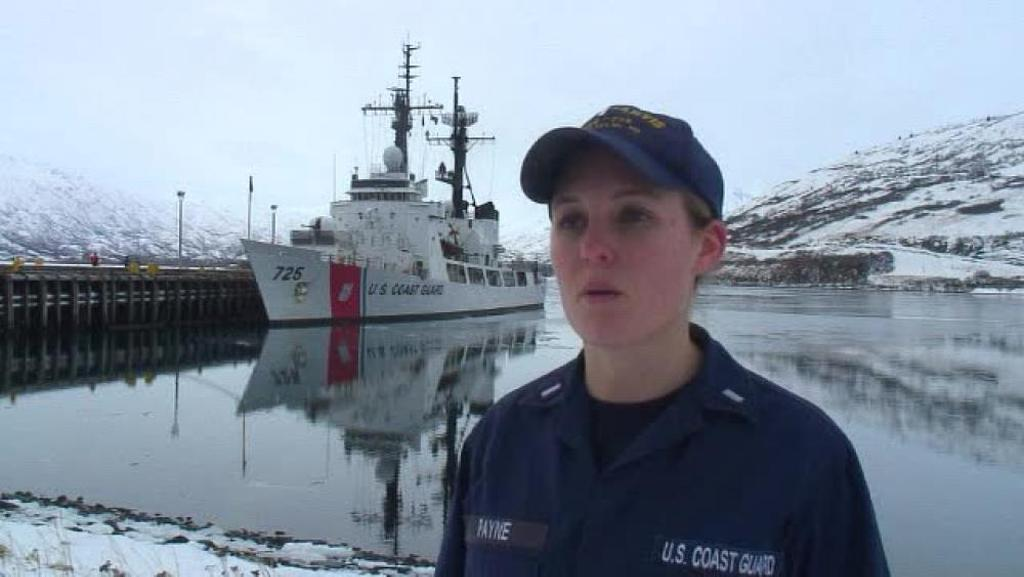face: (550, 148, 696, 346)
